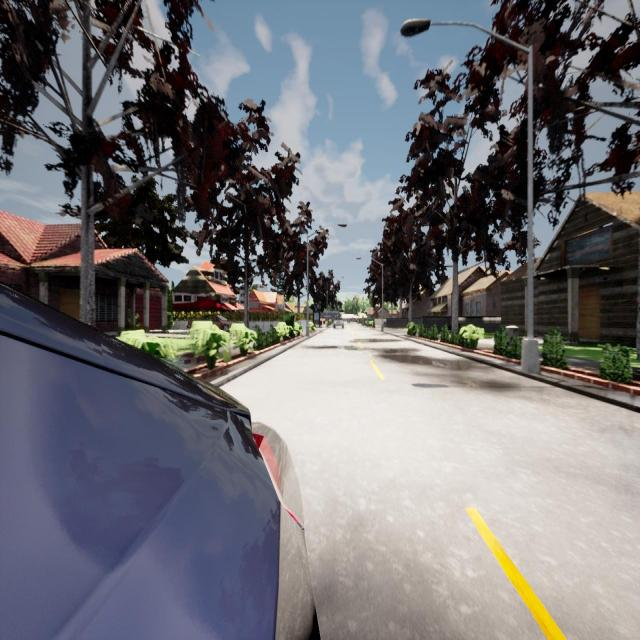Vehicle: (0, 286, 314, 640), (186, 313, 231, 332), (333, 317, 344, 330)
